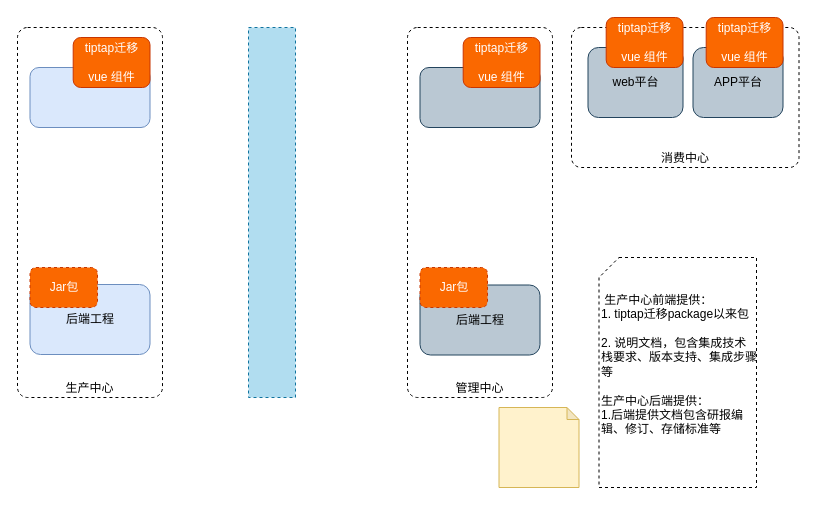
Image size: 817x505. Some labels were removed from this diagram. Here are the shapes that lost their labels. From the top down, the centre of each, then its label:
the point at 89,97: 前端vue工程
the point at 479,97: 前端工程
the point at 272,212: EAIP
the point at 538,447: 生产中心 研报编辑、修订、批注 存储标准
